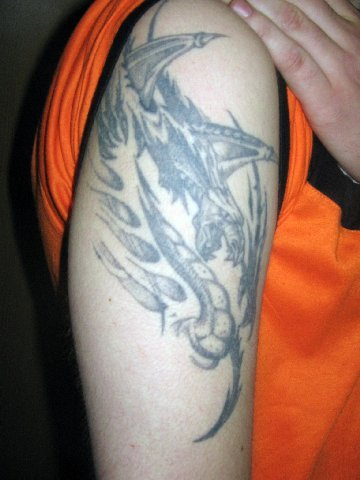tatu6_drakon: (69, 6, 307, 448)
